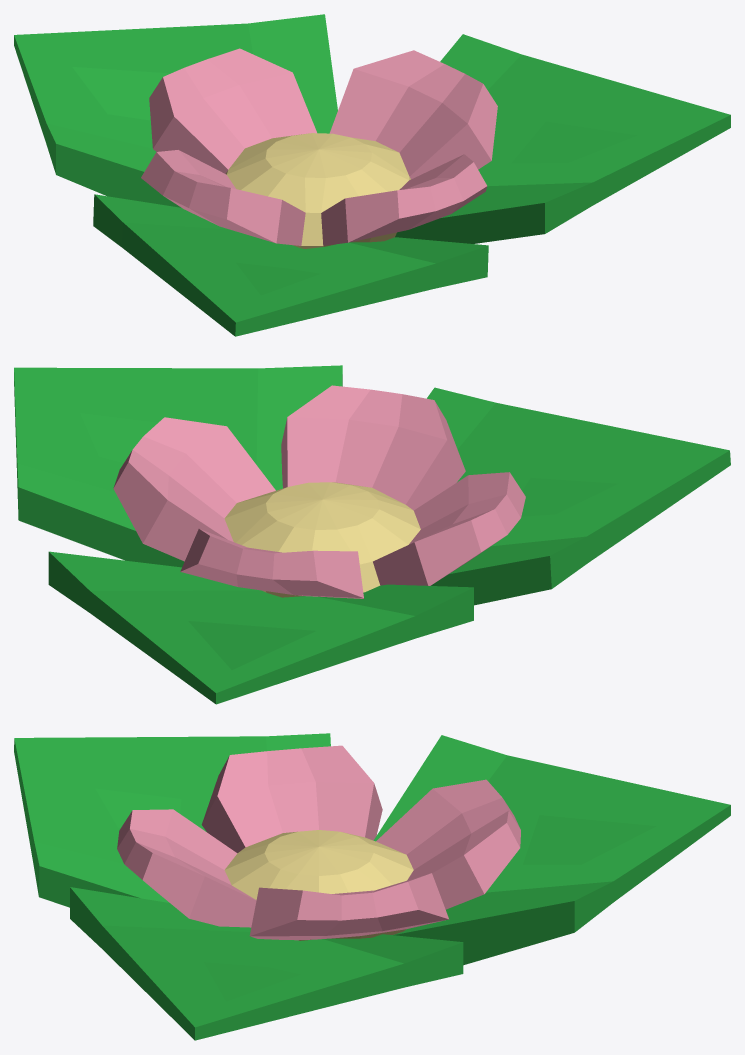
File: fror1.fbx
3 renders of one model, top to bottom at view 1: azimuth 30°, elevation 25°; view 2: azimuth 150°, elevation 25°; view 3: azimuth 270°, elevation 25°, orthographic. The views are drawn at different scales.
Parts seen in each view (by area): view 1: Cubo, Esfera UV; view 2: Cubo, Esfera UV; view 3: Cubo, Esfera UV.
Part boxes in pixels (x1,y1,x2,y2): Cubo: [14, 14, 730, 336]; Esfera UV: [141, 48, 497, 248]; Cubo: [14, 365, 730, 704]; Esfera UV: [113, 385, 525, 598]; Cubo: [14, 733, 730, 1040]; Esfera UV: [117, 745, 520, 940].
Size of the model in its own units: 258 by 66.38 by 269.
